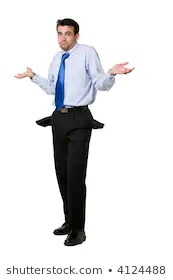F_dress pants: (49, 105, 96, 235)
F_shirt: (32, 43, 117, 107)
F_tie: (57, 53, 71, 108)
